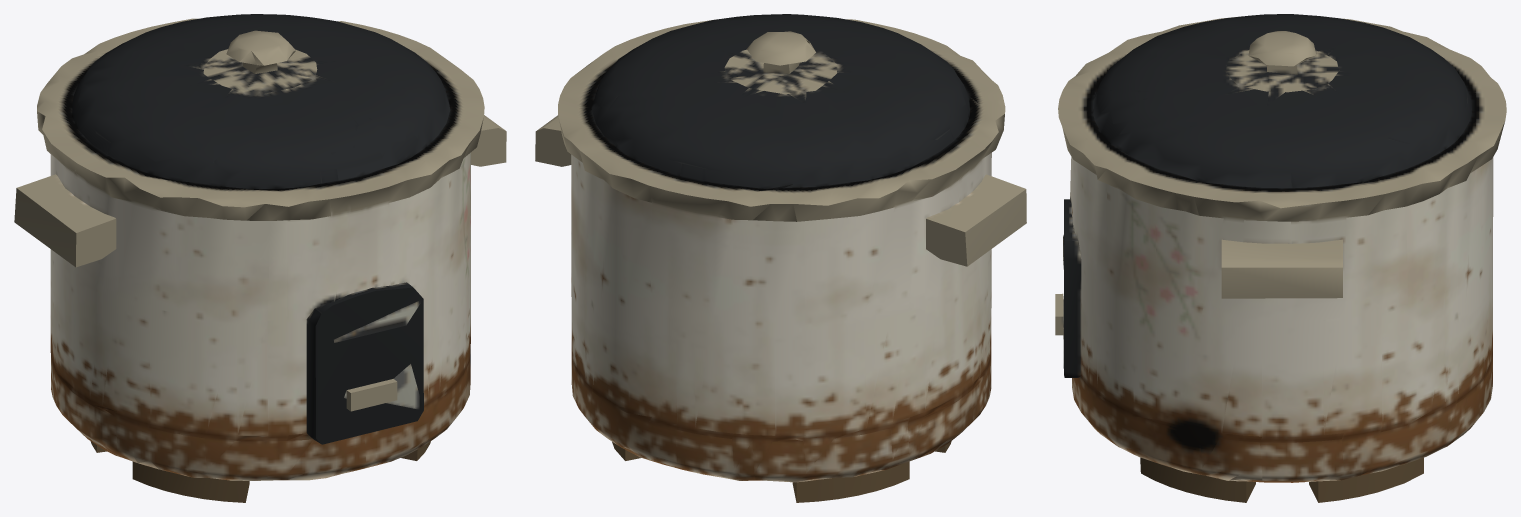
Rendered from ricecooker_old.glb.
3 views of the same model, side by side, from view 1: azimuth 30°, elevation 25°; view 2: azimuth 150°, elevation 25°; view 3: azimuth 270°, elevation 25° (orthographic).
Visible parts, largest first — view 1: mesh; view 2: mesh; view 3: mesh.
Part boxes in pixels (box(x1,y1,x2,y2)): mesh: box(14, 14, 506, 502); mesh: box(535, 14, 1026, 502); mesh: box(1055, 14, 1506, 502).
Size of the model in its own units: 0.29 by 0.25 by 0.2617.
1 material, 1 textured.
